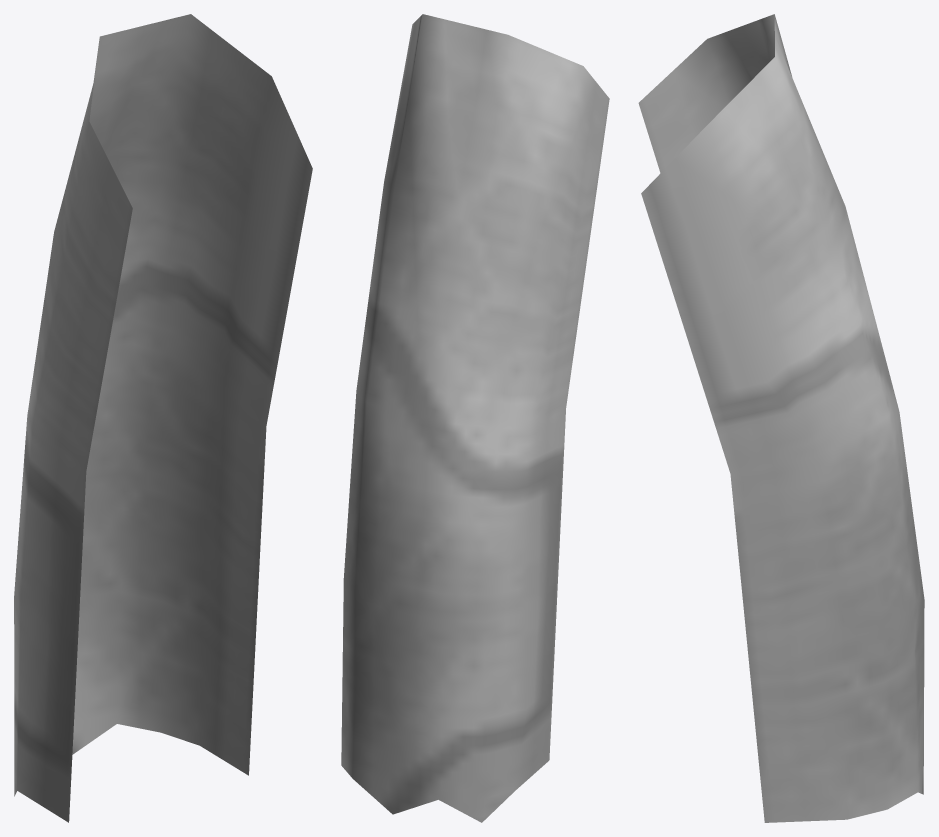
Rendered from health_bar_top.obj.
3 views of the same model, side by side, from view 1: azimuth 30°, elevation 25°; view 2: azimuth 150°, elevation 25°; view 3: azimuth 270°, elevation 25° (orthographic). The views are drawn at different scales.
Parts seen in each view (by area): view 1: isaac_clarke_isaac_healthbar; view 2: isaac_clarke_isaac_healthbar; view 3: isaac_clarke_isaac_healthbar.
Part boxes in pixels (x1,y1,x2,y2): isaac_clarke_isaac_healthbar: (14,14,312,822); isaac_clarke_isaac_healthbar: (341,14,609,822); isaac_clarke_isaac_healthbar: (638,14,924,822).
Bounding box in the file's own units: 0.9183 × 3.68 × 1.25.
Materials: 1 (1 with a texture image).
